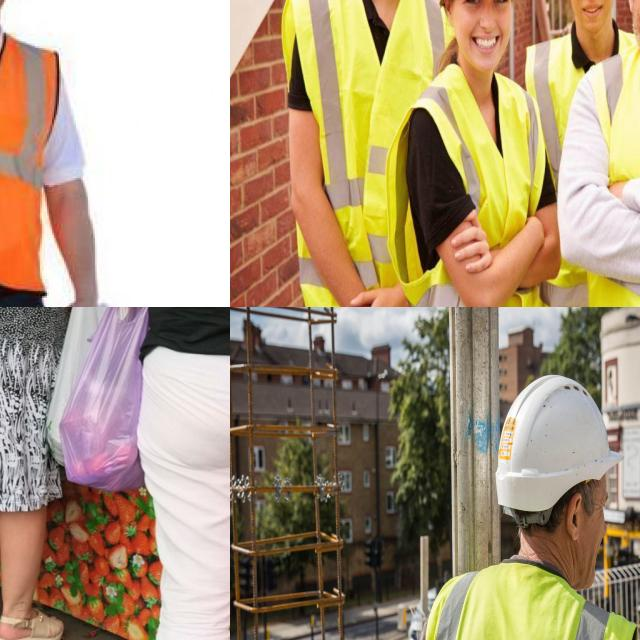No_Ear-Protection: (443, 0, 455, 27), (624, 0, 637, 10)
No_Glasses: (458, 0, 512, 20)
face_nomask: (455, 0, 515, 77), (565, 0, 615, 35)
hand_noglove: (451, 206, 501, 281), (344, 287, 407, 307)
head_helmet: (495, 374, 626, 513)
person: (415, 383, 640, 640), (284, 0, 429, 307), (425, 0, 550, 307), (0, 0, 76, 307), (530, 0, 630, 125)
vest: (277, 0, 444, 307), (393, 61, 549, 307), (525, 31, 591, 307), (421, 560, 640, 640), (0, 15, 53, 294), (594, 31, 640, 307)
